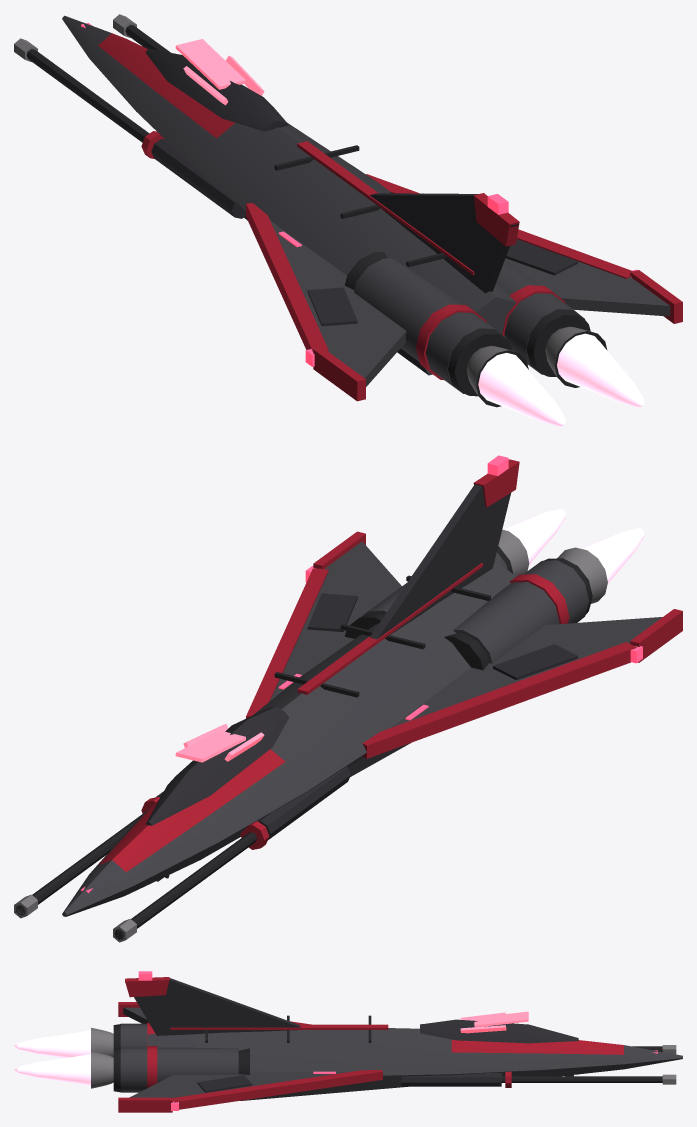
File: corsair_raider.glb
3 views of the same model, one above another, from view 1: azimuth 30°, elevation 25°; view 2: azimuth 150°, elevation 25°; view 3: azimuth 270°, elevation 25° (orthographic). The views are drawn at different scales.
Visible parts, largest first — view 1: corsair_hull, engine_glow; view 2: corsair_hull, engine_glow; view 3: corsair_hull, engine_glow.
Part boxes in pixels (<box>): corsair_hull: <box>14,14,682,407</box>; engine_glow: <box>478,333,644,426</box>; corsair_hull: <box>14,455,682,942</box>; engine_glow: <box>502,509,644,583</box>; corsair_hull: <box>91,971,682,1112</box>; engine_glow: <box>14,1030,90,1085</box>.
Size of the model in its own units: 4.7 by 2.53 by 13.27.
